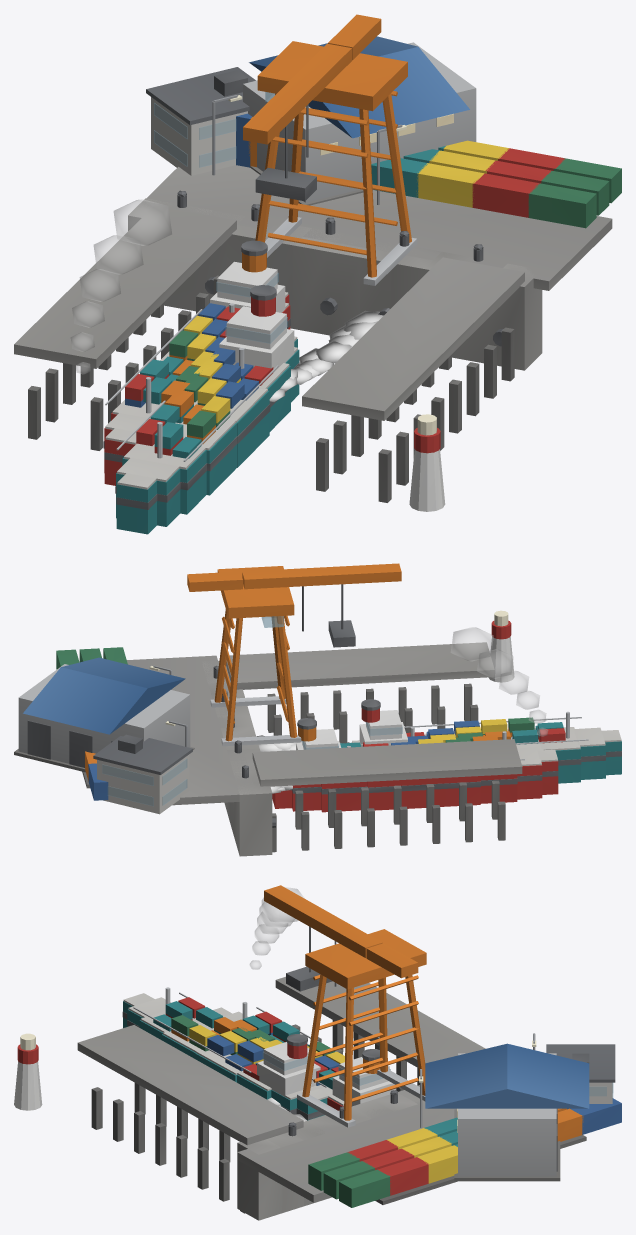
Rendered from Port_P2.fbx.
3 views of the same model, one above another, from view 1: azimuth 30°, elevation 25°; view 2: azimuth 150°, elevation 25°; view 3: azimuth 270°, elevation 25° (orthographic). The views are drawn at different scales.
Parts seen in each view (by area): view 1: Port.Pier1, Port.ShipOut, Port.Crane0, Port.Pier0, Port.Apron, Port.QuayWall, Port.Containers, Port.Shed, Port.Ship0, Port.Control, Port.ShipSmoke, Port.Beacon (+1 smaller); view 2: Port.Pier0, Port.Shed, Port.Crane0, Port.Pier1, Port.Ship0, Port.ShipOut, Port.Apron, Port.Control, Port.QuayWall, Port.ShipSmoke, Port.Containers, Port.Beacon (+1 smaller); view 3: Port.Shed, Port.Pier1, Port.Crane0, Port.ShipOut, Port.Containers, Port.Apron, Port.Pier0, Port.QuayWall, Port.Ship0, Port.Control, Port.Beacon, Port.ShipSmoke.
Boxes of the visible parts, x1,y1,x2,y2 form: Port.Pier1: [302, 257, 524, 502]; Port.ShipOut: [115, 285, 299, 534]; Port.Crane0: [243, 14, 417, 285]; Port.Pier0: [14, 205, 236, 450]; Port.Apron: [138, 165, 612, 290]; Port.QuayWall: [128, 198, 542, 370]; Port.Containers: [236, 113, 621, 228]; Port.Shed: [243, 36, 476, 205]; Port.Ship0: [103, 240, 290, 485]; Port.Control: [146, 67, 255, 175]; Port.ShipSmoke: [71, 199, 171, 373]; Port.Beacon: [409, 414, 445, 511]; Port.Pier0: [252, 739, 522, 852]; Port.Shed: [14, 657, 194, 772]; Port.Crane0: [187, 563, 401, 746]; Port.Pier1: [226, 642, 494, 743]; Port.Ship0: [272, 718, 558, 812]; Port.ShipOut: [351, 699, 621, 783]; Port.Apron: [82, 655, 255, 805]; Port.Control: [93, 734, 192, 814]; Port.QuayWall: [202, 660, 276, 856]; Port.ShipSmoke: [451, 627, 547, 736]; Port.Containers: [56, 647, 127, 800]; Port.Beacon: [488, 610, 514, 682]; Port.Shed: [425, 1043, 589, 1181]; Port.Pier1: [77, 1025, 303, 1213]; Port.Crane0: [264, 885, 426, 1127]; Port.ShipOut: [122, 987, 329, 1120]; Port.Containers: [308, 1098, 621, 1207]; Port.Apron: [237, 1101, 586, 1204]; Port.Pier0: [275, 976, 485, 1091]; Port.QuayWall: [237, 1085, 424, 1220]; Port.Ship0: [213, 1002, 396, 1110]; Port.Control: [546, 1044, 615, 1103]; Port.Beacon: [14, 1033, 42, 1110]; Port.ShipSmoke: [250, 887, 304, 969].
Size of the model in its own units: 8216 by 3630 by 8602.
